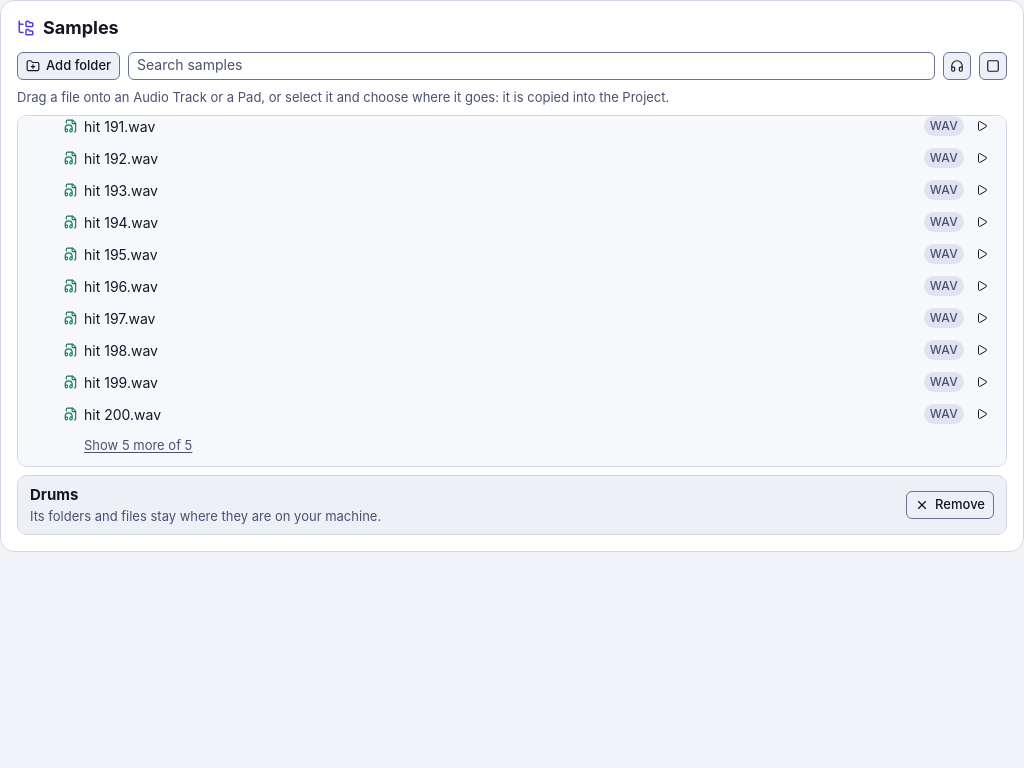
Scenario: a big folder shows its first entries, and the rest on asking
(page scrolled)
Click the list item "Show 5 more of 5".
click(138, 445)  # box [84, 437, 192, 453]
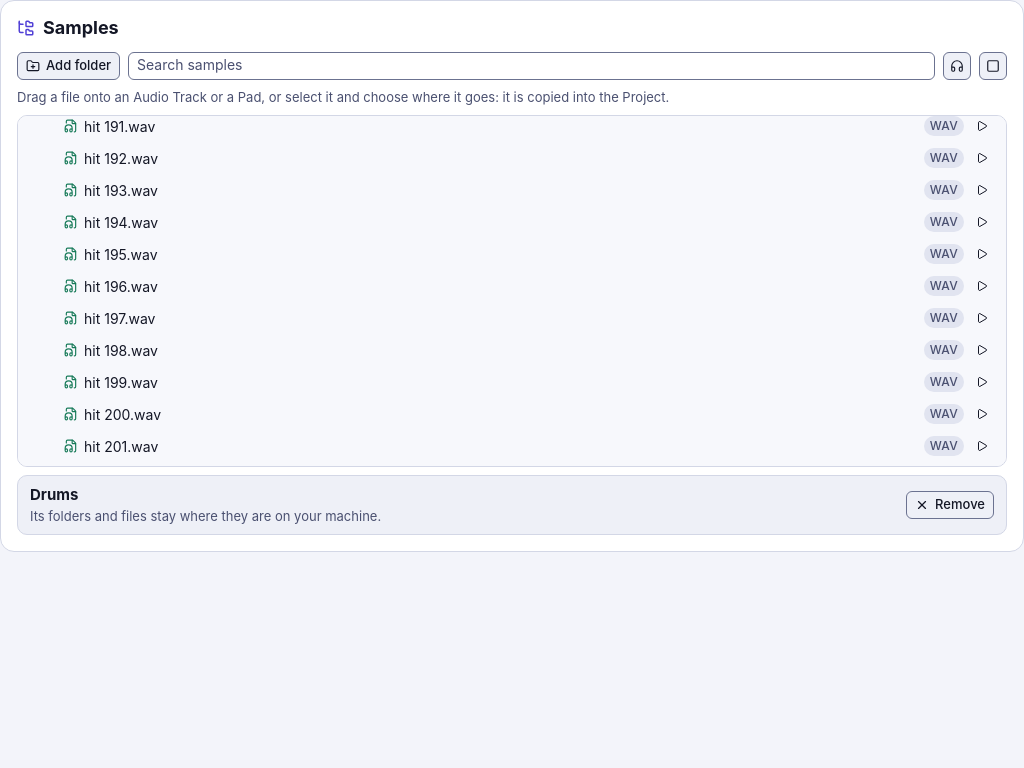
Expected: the text "Show" is gone
